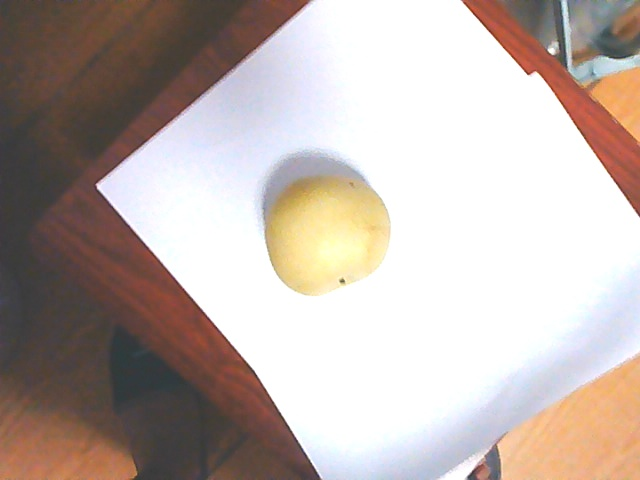pear: (259, 173, 394, 293)
